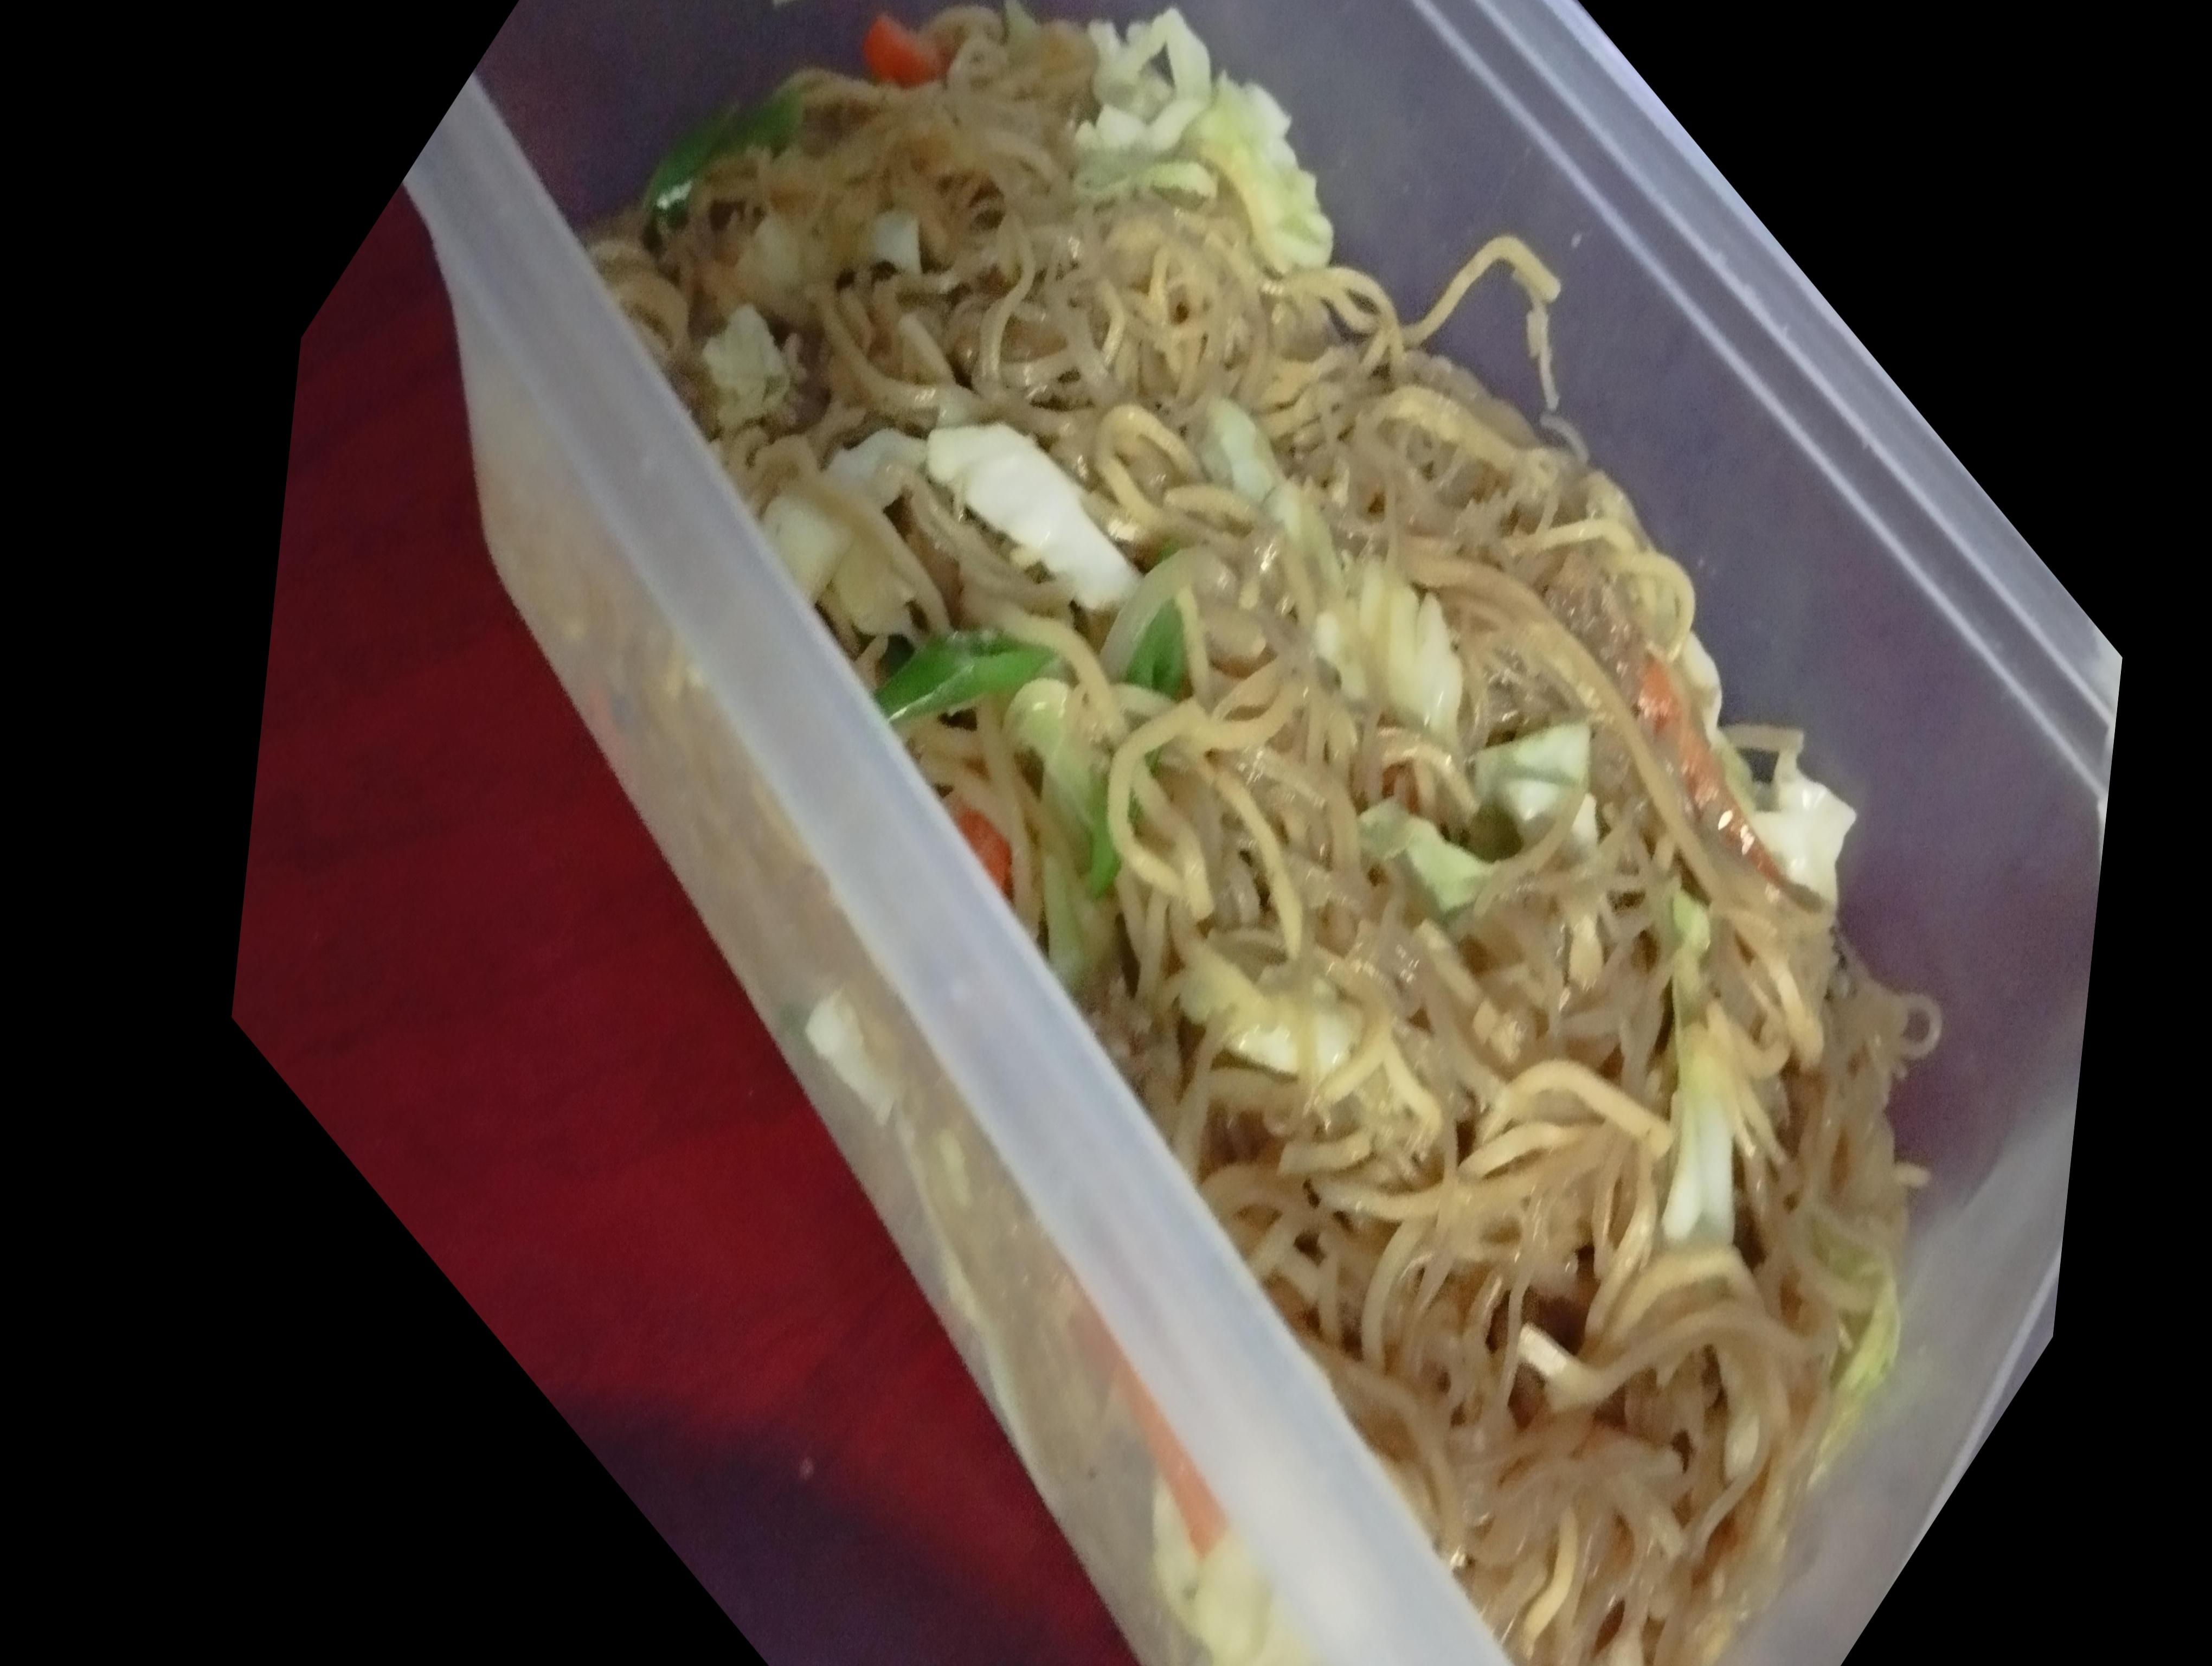pancit bihon: (544, 17, 1922, 1666)
